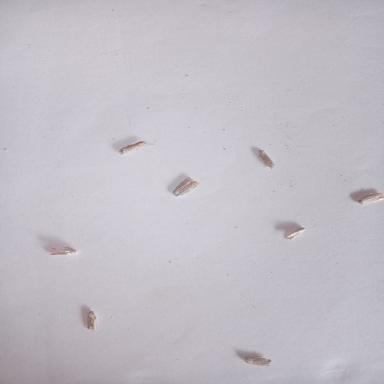pbw: (172, 177, 202, 197), (117, 140, 149, 158), (284, 225, 308, 243), (245, 353, 274, 367), (258, 146, 276, 168), (355, 190, 383, 204), (48, 245, 80, 257), (86, 310, 97, 331)
